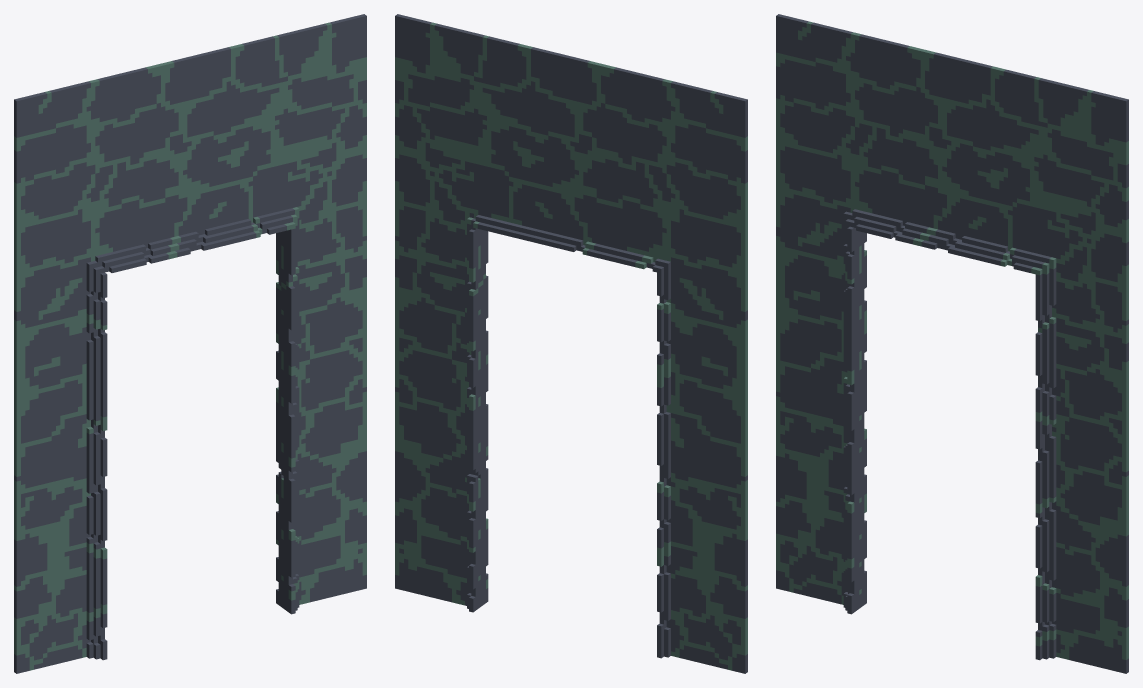
File: paredAzulConHueco-1.obj
3 views of the same model, side by side, from view 1: azimuth 30°, elevation 25°; view 2: azimuth 150°, elevation 25°; view 3: azimuth 330°, elevation 25° (orthographic).
Bounding box in the file's own units: 8 × 12.5 × 0.6.
Materials: 1 (1 with a texture image).
